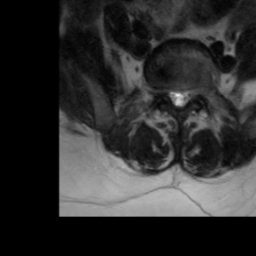CCS_normal: (175, 83, 182, 115)
LFS_normal: (189, 80, 197, 105)
LLS_normal: (182, 84, 189, 108)
RFS_stenosis: (159, 79, 168, 101)
RLS_normal: (168, 82, 175, 110)
